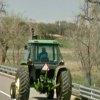Tractor: (3, 29, 75, 100)
